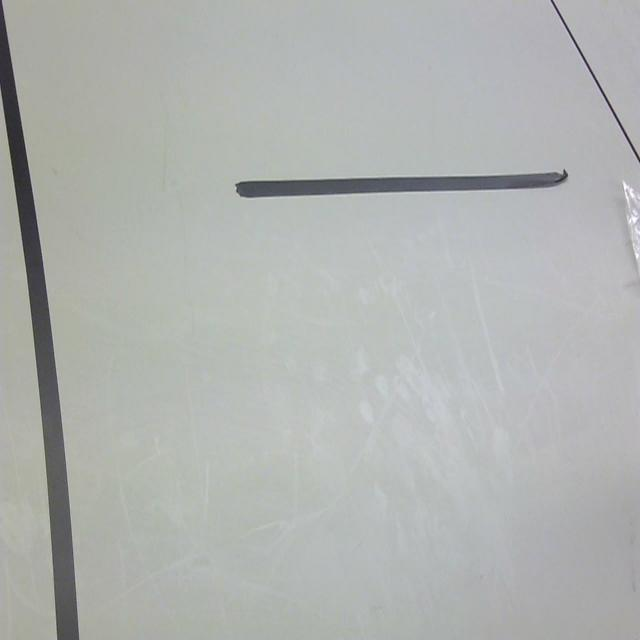tape: (220, 141, 574, 212)
